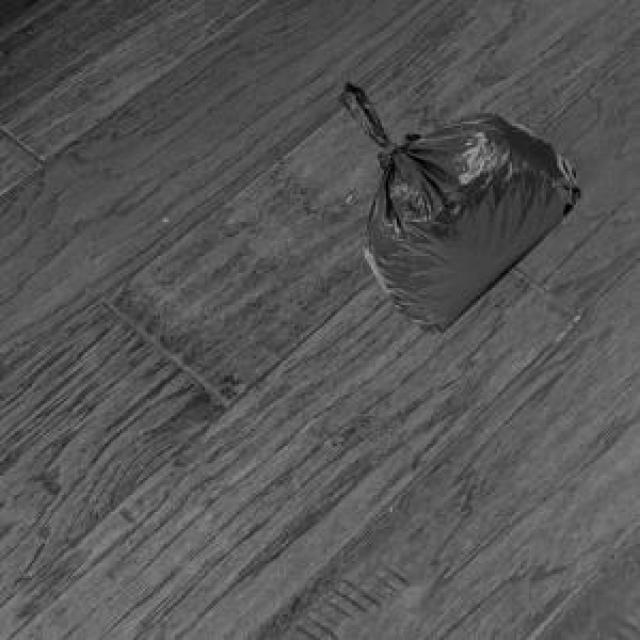miscellaneous trash: (337, 79, 576, 329)
